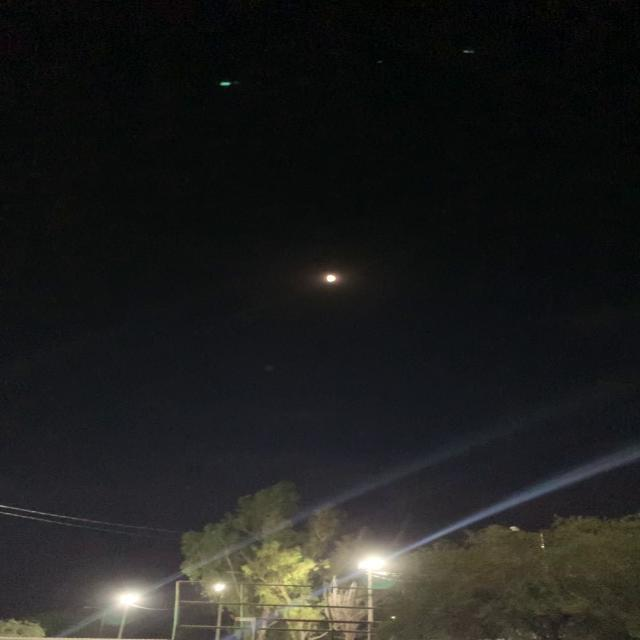moon: (309, 264, 356, 294)
